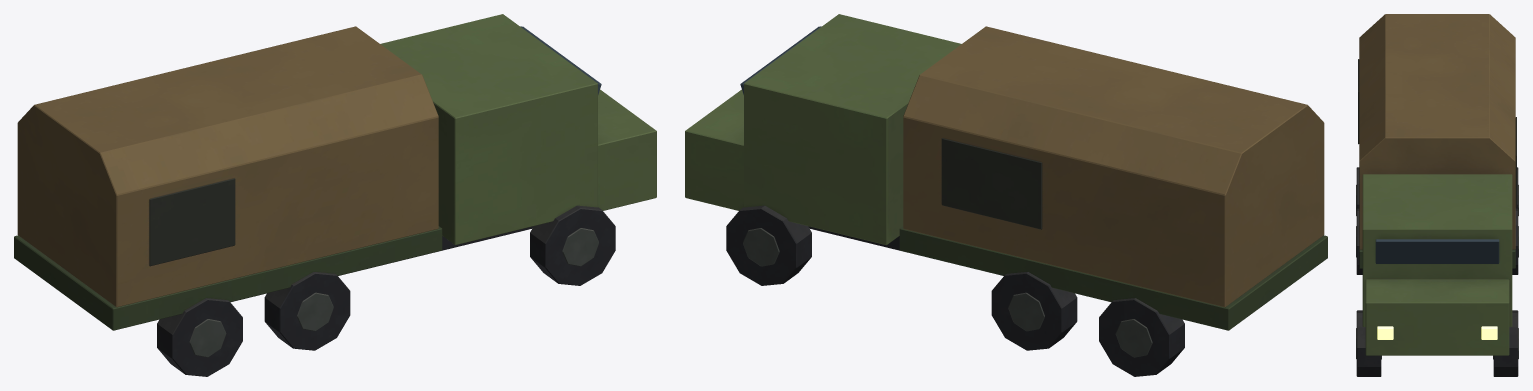
The model's file is lastbil_tex.glb.
The picture shows the model from 3 angles, left to right: view 1: azimuth 30°, elevation 25°; view 2: azimuth 150°, elevation 25°; view 3: azimuth 270°, elevation 25°; orthographic projection. The views are drawn at different scales.
Parts seen in each view (by area): view 1: lastbil; view 2: lastbil; view 3: lastbil.
Boxes of the visible parts, x1=… form: lastbil: x1=14, y1=14, x2=656, y2=376; lastbil: x1=685, y1=14, x2=1327, y2=376; lastbil: x1=1356, y1=14, x2=1518, y2=376.
Size of the model in its own units: 7.72 by 3.1 by 2.5.
9 materials, 7 textured.
